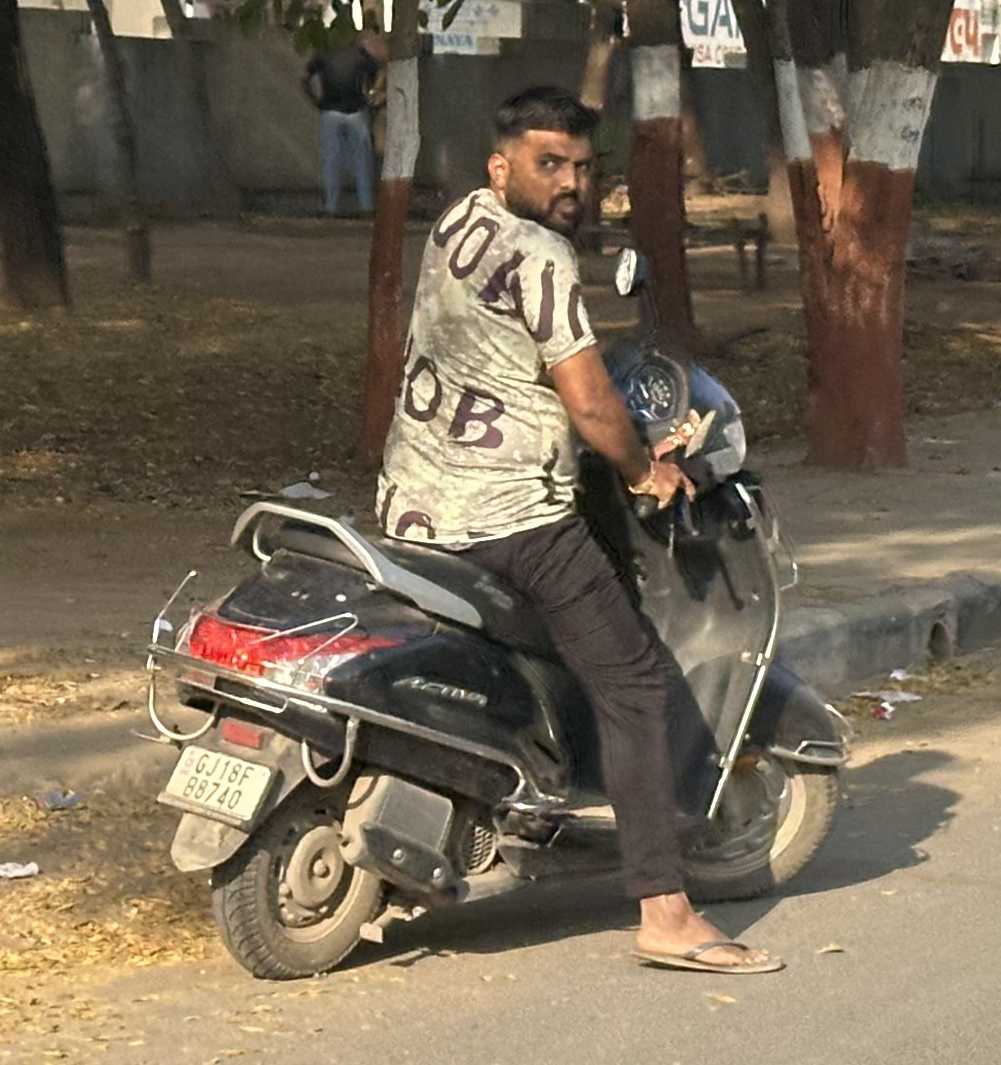BikeWithRider: (125, 72, 867, 990)
NoHelmet: (472, 75, 613, 246)
